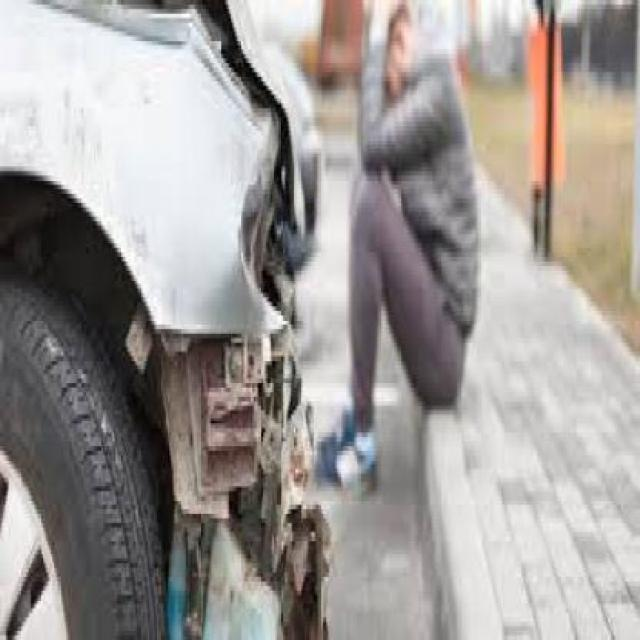damaged-front-bumper: (147, 324, 336, 636)
